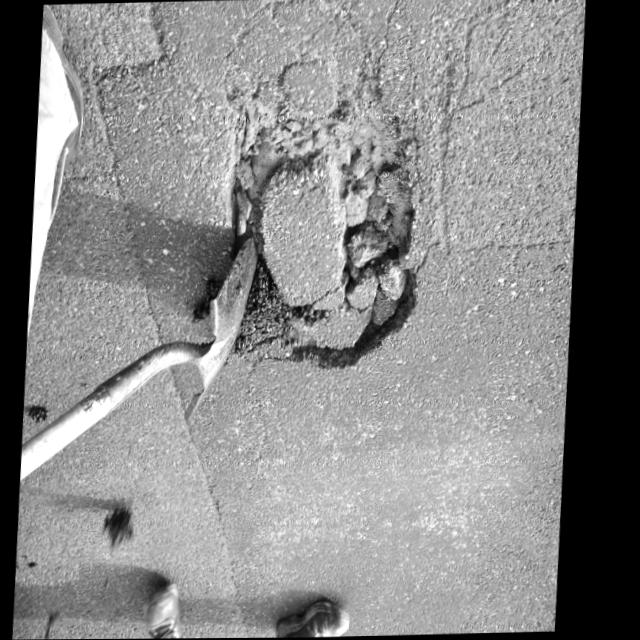pathole: (233, 44, 444, 421)
